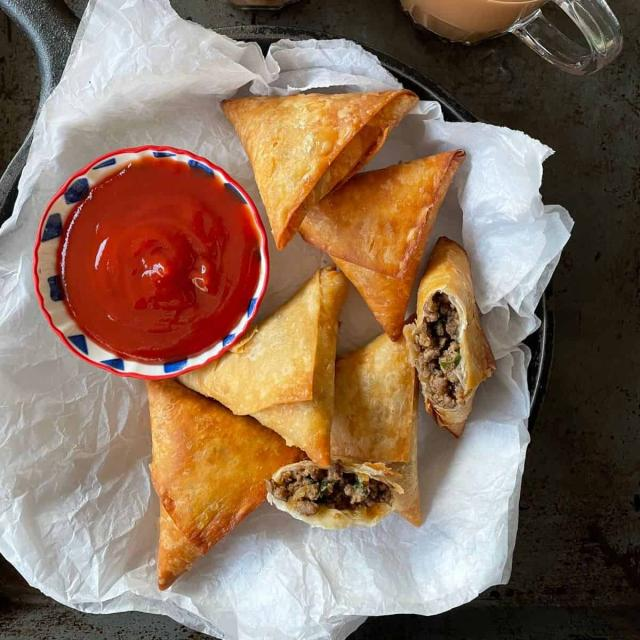SAMOSA: (180, 266, 349, 471), (147, 380, 306, 589), (299, 151, 464, 339), (223, 90, 418, 249), (403, 238, 494, 436), (331, 334, 421, 525)
